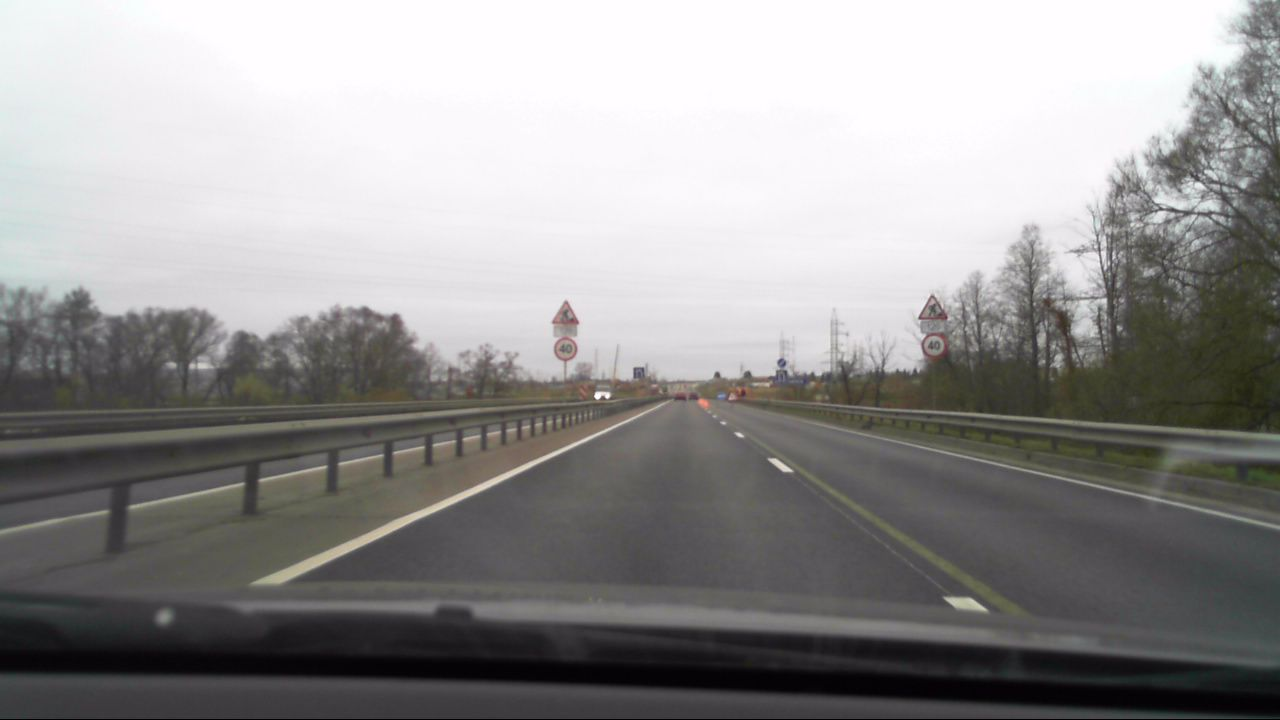speed_warning_40: (553, 338, 578, 361)
